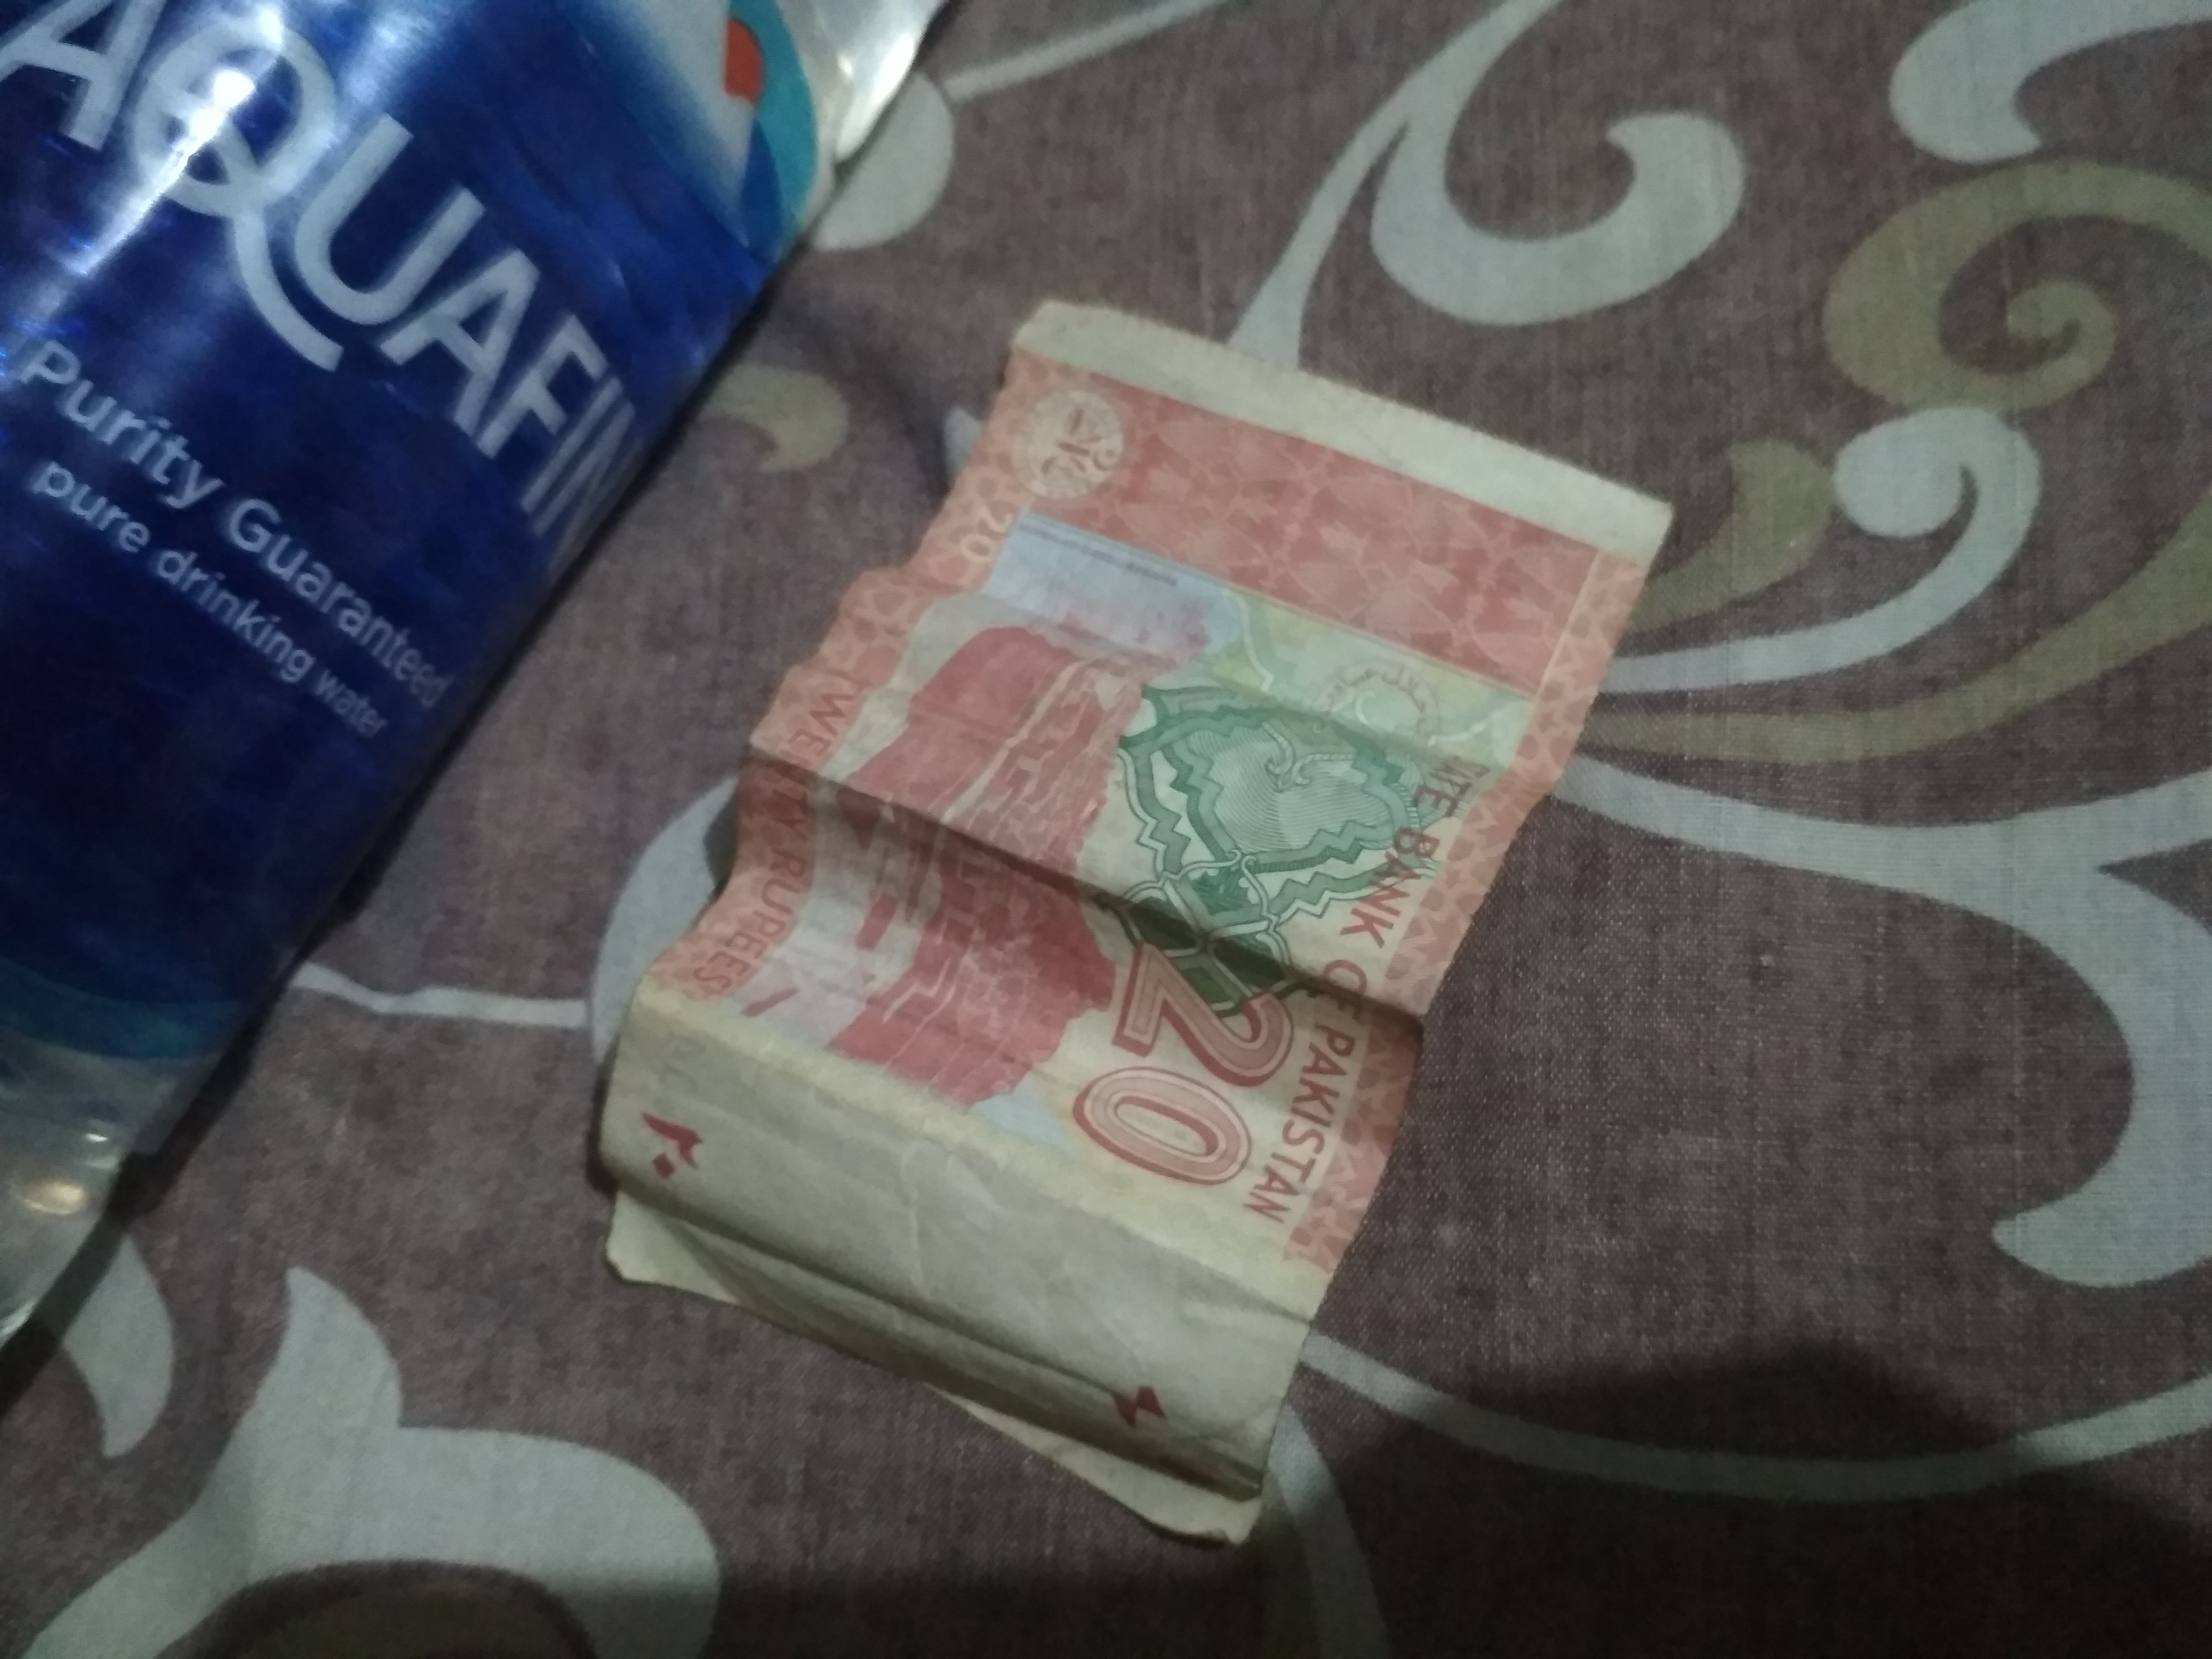20 rupee: (559, 247, 1684, 1535)
